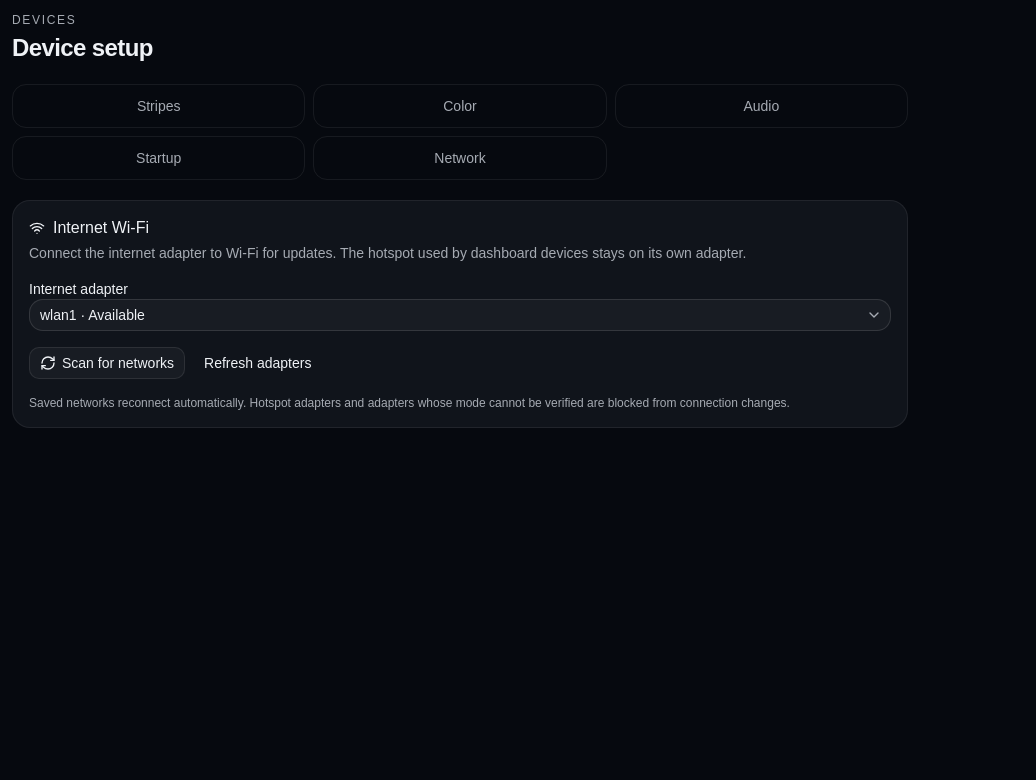
Scenario: NetworkSetupPage › scans with the selected internet adapter and connects without retaining the password
The width and height of the screenshot is (1036, 780).
Expected: the dropdown named "Internet adapter" is shown, [29,299,891,331]
Click the button "Scan for networks".
click(107, 363)  # box [29,347,185,379]
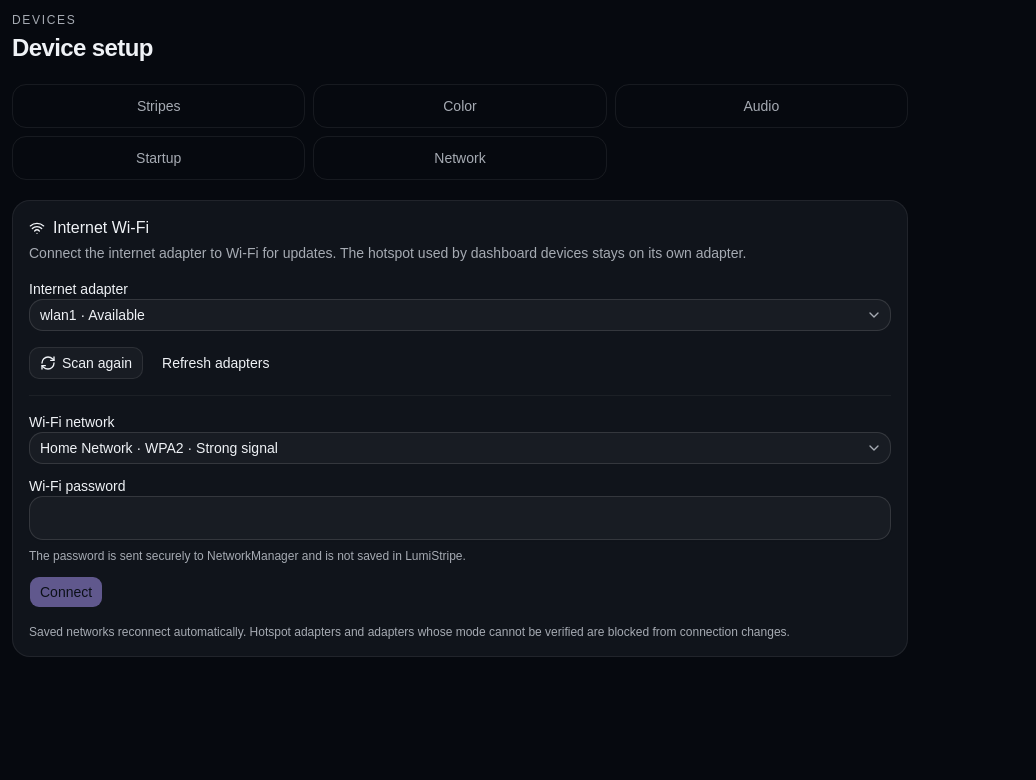
Click the dropdown named "Wi-Fi network".
click(159, 448)  # box [29,432,891,464]
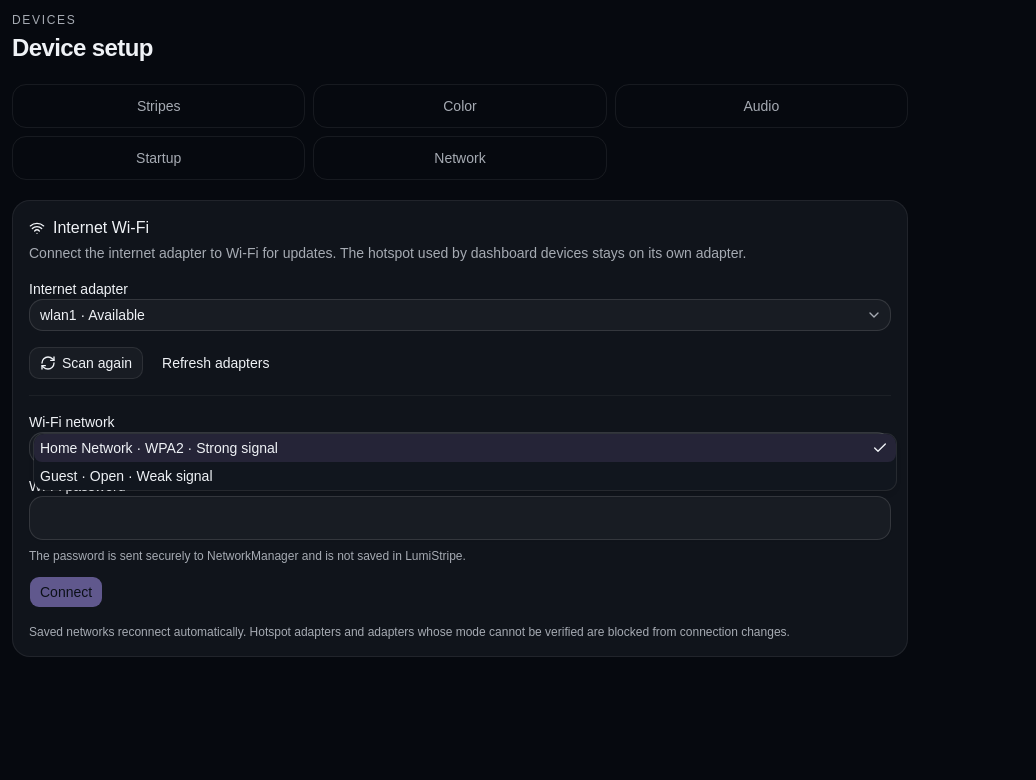
Click the option "Home Network · WPA2 · Strong signal".
click(86, 448)  # box [34,434,896,462]
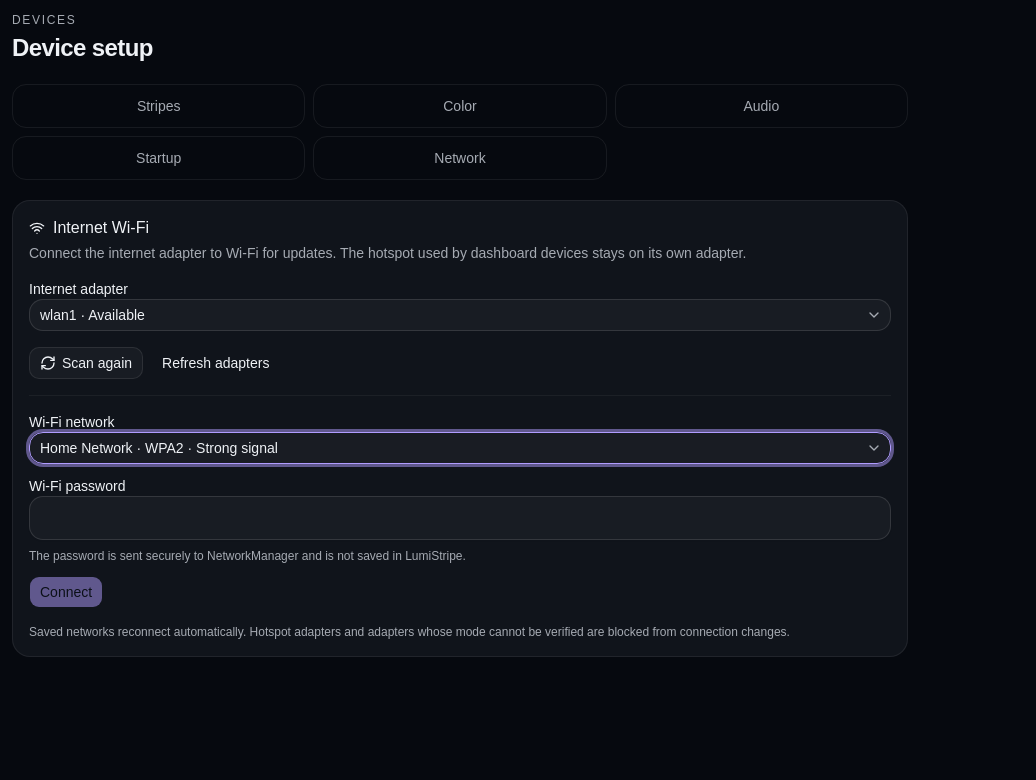
Type "correct-horse" into the password field labelled "Wi-Fi password".
click(460, 518); type("correct-horse")  # box [29,496,891,540]
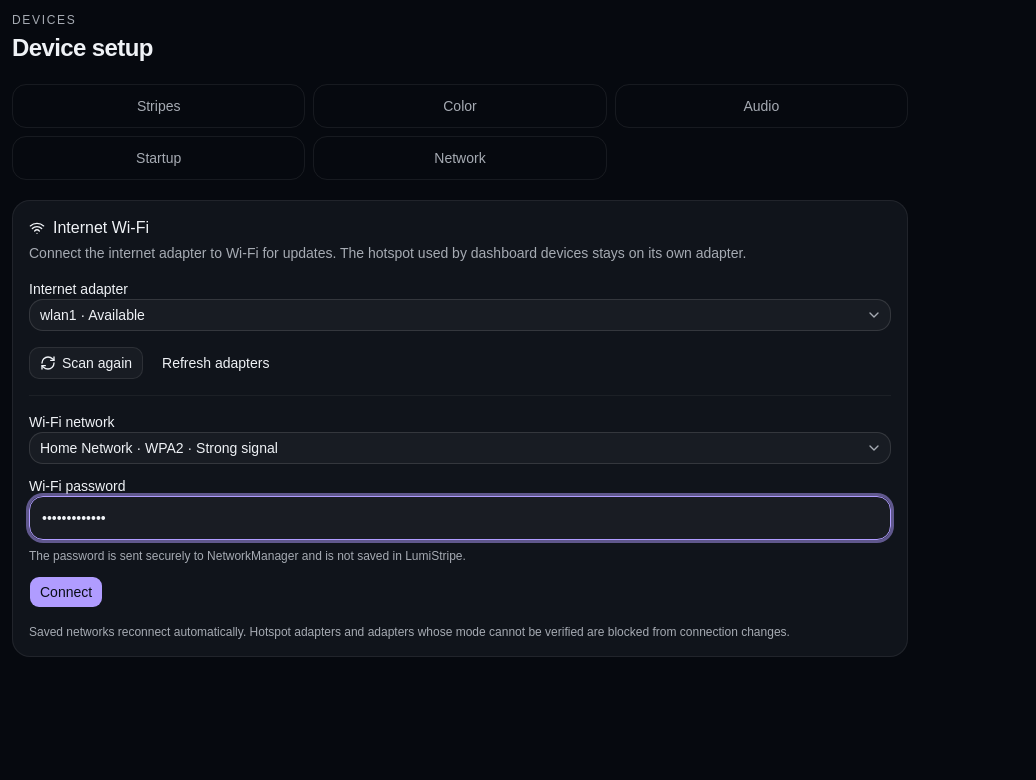
Click the button "Connect".
click(66, 592)  # box [29,576,103,608]
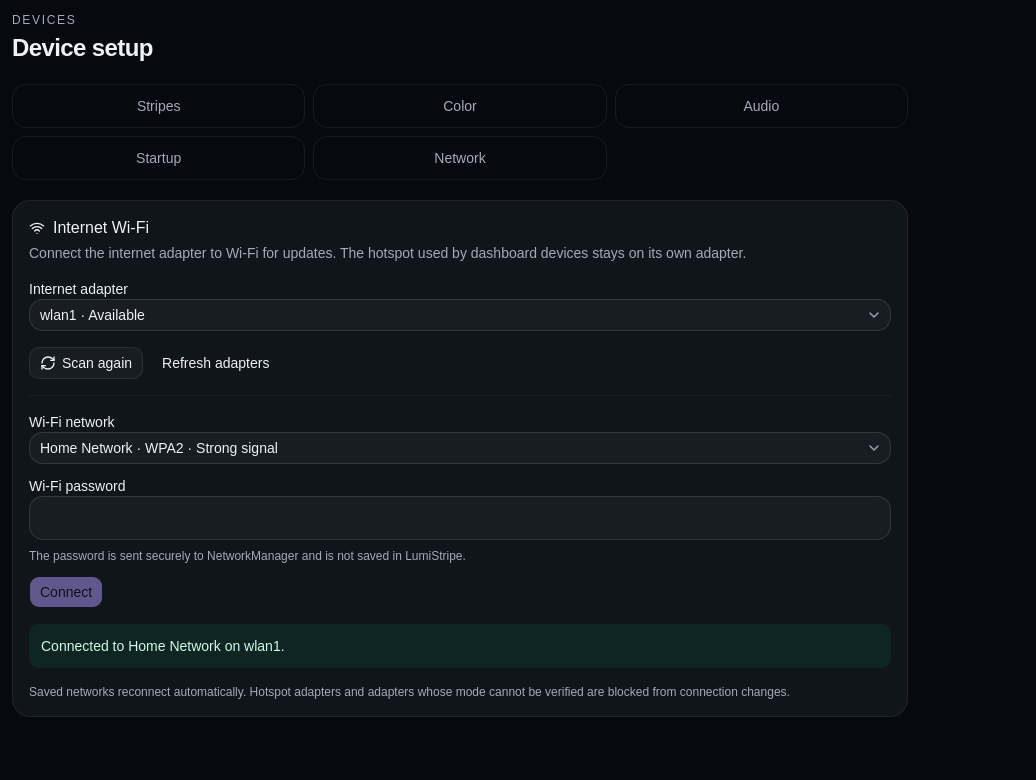
Expected: the message reads "Connected to Home Network on wlan1.", [41,638,285,654]
Expected: the password field labelled "Wi-Fi password" is empty, [29,496,891,540]
